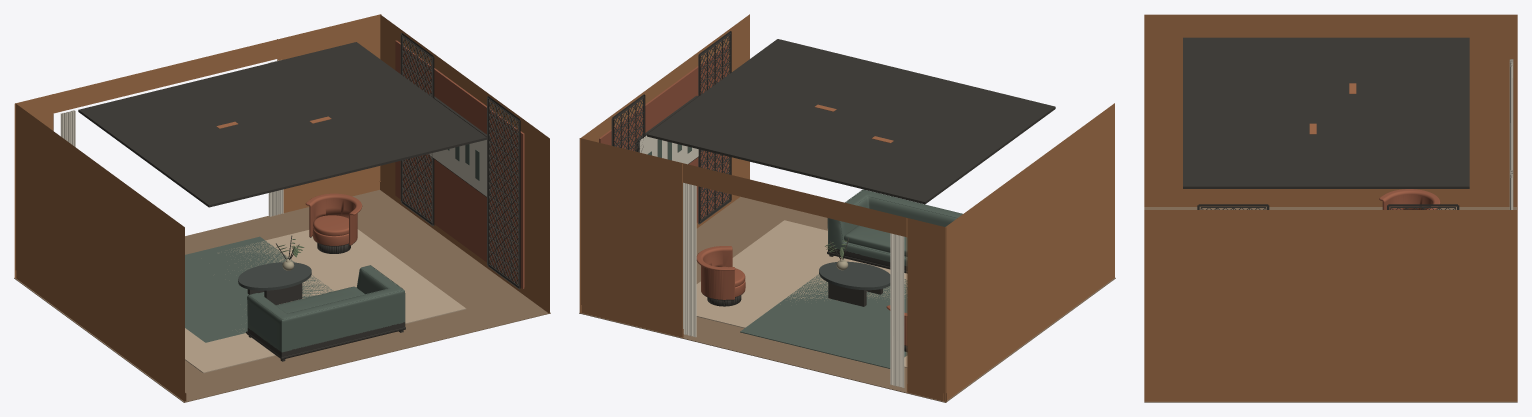
Rendered from great-1.glb.
The picture shows the model from 3 angles, left to right: view 1: azimuth 30°, elevation 25°; view 2: azimuth 150°, elevation 25°; view 3: azimuth 270°, elevation 25°; orthographic projection. The views are drawn at different scales.
Visible parts, largest first — view 1: DESIGN | great removable wall finish, DESIGN | Social ceiling field, DESIGN | great floor finish, DESIGN | Clay conversation wall, DESIGN | Great room primary ground, DESIGN | Great room sofa facing conversation, DESIGN | Secondary occupied textile field, DESIGN | Kumiko | Great room vertical garden boundary, DESIGN | Kumiko | Great room vertical garden boundary.001, DESIGN | Required Bellustar swivel chair one, DESIGN | Great room conversation table top, DESIGN | Textile artwork.001 (+2 smaller); view 2: DESIGN | great removable wall finish, DESIGN | Social ceiling field, DESIGN | great floor finish, DESIGN | Secondary occupied textile field, DESIGN | Great room primary ground, DESIGN | Great room sofa facing conversation, DESIGN | Clay conversation wall, DESIGN | Kumiko | Great room vertical garden boundary, DESIGN | Great room soft window edge, DESIGN | Required Bellustar swivel chair one, DESIGN | Great room soft window edge.001, DESIGN | Great room conversation table top (+3 smaller); view 3: DESIGN | great removable wall finish, DESIGN | Social ceiling field, DESIGN | great floor finish, DESIGN | Required Bellustar swivel chair two, DESIGN | Great room soft window edge, DESIGN | Kumiko | Great room vertical garden boundary, DESIGN | Kumiko | Great room vertical garden boundary.001.
Boxes of the visible parts, x1,y1,x2,y2 form: DESIGN | great removable wall finish: [14, 14, 549, 401]; DESIGN | Social ceiling field: [78, 42, 486, 207]; DESIGN | great floor finish: [14, 190, 550, 402]; DESIGN | Clay conversation wall: [395, 40, 524, 288]; DESIGN | Great room primary ground: [185, 229, 466, 373]; DESIGN | Great room sofa facing conversation: [246, 265, 405, 361]; DESIGN | Secondary occupied textile field: [185, 236, 333, 342]; DESIGN | Kumiko | Great room vertical garden boundary: [487, 96, 520, 289]; DESIGN | Kumiko | Great room vertical garden boundary.001: [400, 33, 434, 226]; DESIGN | Required Bellustar swivel chair one: [305, 193, 362, 253]; DESIGN | Great room conversation table top: [238, 262, 311, 290]; DESIGN | Textile artwork.001: [428, 140, 486, 196]; DESIGN | great removable wall finish: [579, 14, 1114, 401]; DESIGN | Social ceiling field: [647, 39, 1055, 204]; DESIGN | great floor finish: [579, 196, 1115, 402]; DESIGN | Secondary occupied textile field: [740, 274, 907, 368]; DESIGN | Great room primary ground: [696, 220, 907, 367]; DESIGN | Great room sofa facing conversation: [827, 189, 962, 273]; DESIGN | Clay conversation wall: [599, 45, 728, 222]; DESIGN | Kumiko | Great room vertical garden boundary: [698, 31, 731, 224]; DESIGN | Great room soft window edge: [890, 233, 904, 387]; DESIGN | Required Bellustar swivel chair one: [696, 246, 745, 306]; DESIGN | Great room soft window edge.001: [683, 182, 696, 337]; DESIGN | Great room conversation table top: [819, 261, 890, 290]; DESIGN | great removable wall finish: [1144, 14, 1517, 401]; DESIGN | Social ceiling field: [1183, 37, 1469, 188]; DESIGN | great floor finish: [1144, 207, 1517, 402]; DESIGN | Required Bellustar swivel chair two: [1379, 189, 1440, 209]; DESIGN | Great room soft window edge: [1509, 59, 1513, 170]; DESIGN | Kumiko | Great room vertical garden boundary: [1197, 204, 1269, 209]; DESIGN | Kumiko | Great room vertical garden boundary.001: [1387, 204, 1459, 209].
Size of the model in its own units: 6 by 2.78 by 4.82.
